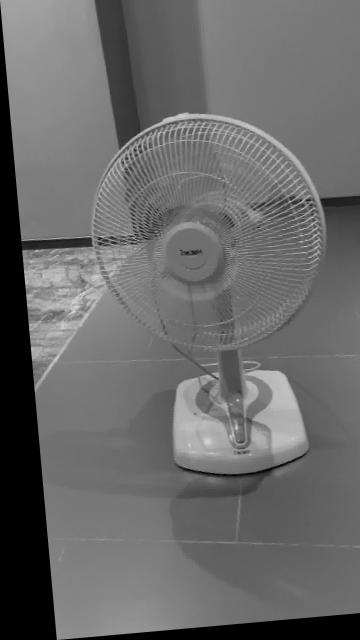Fan: (86, 117, 321, 481)
